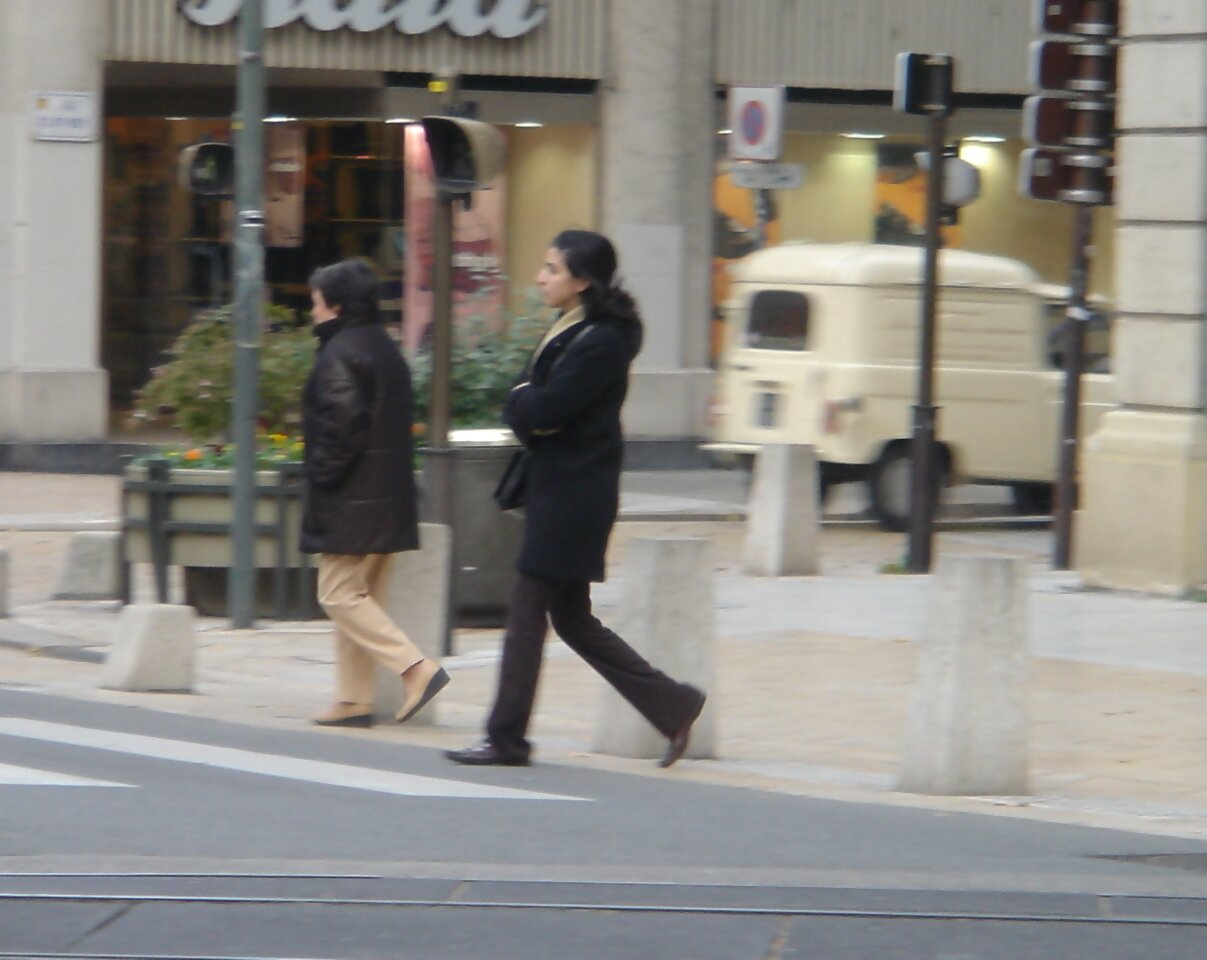person: (449, 225, 713, 767), (292, 254, 456, 744)
